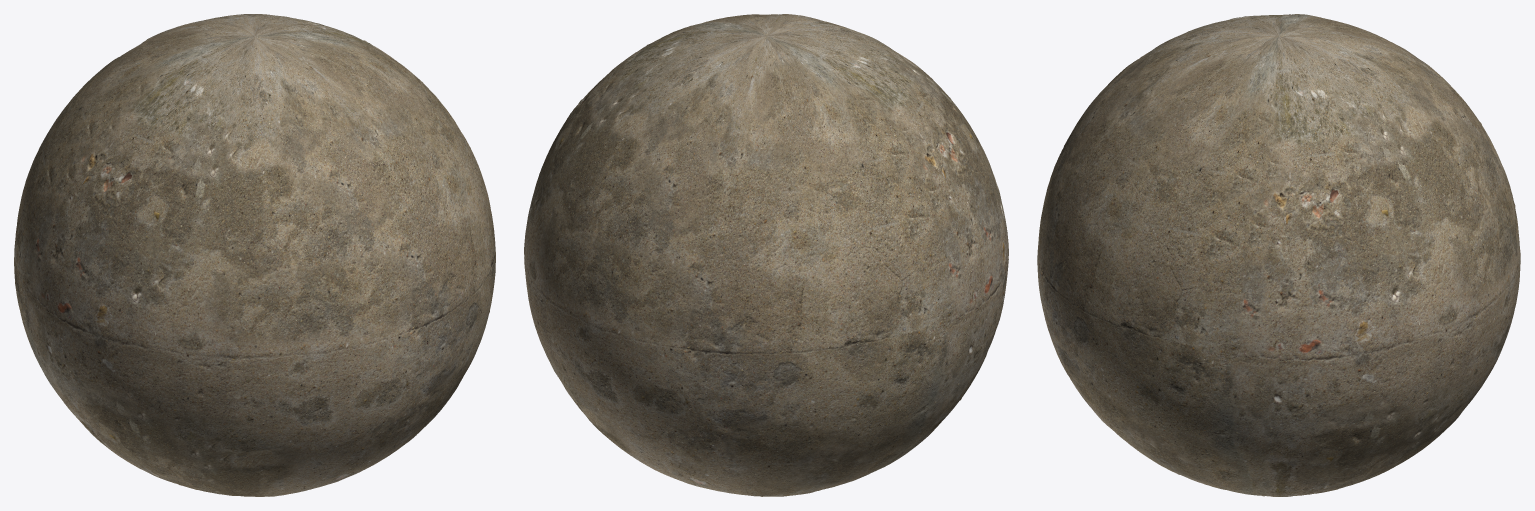
The model's file is grey_plaster_02_2k.gltf.
3 views of the same model, side by side, from view 1: azimuth 30°, elevation 25°; view 2: azimuth 150°, elevation 25°; view 3: azimuth 270°, elevation 25° (orthographic).
Parts seen in each view (by area): view 1: sphere_gltf; view 2: sphere_gltf; view 3: sphere_gltf.
Part boxes in pixels (x1,y1,x2,y2): sphere_gltf: (14,14,495,496); sphere_gltf: (524,14,1008,496); sphere_gltf: (1037,14,1520,496).
Size of the model in its own units: 0.9993 by 1 by 1.
Materials: 1 (1 with a texture image).
